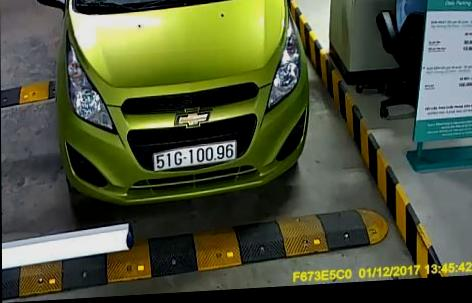License_Plate: (153, 140, 235, 169)
